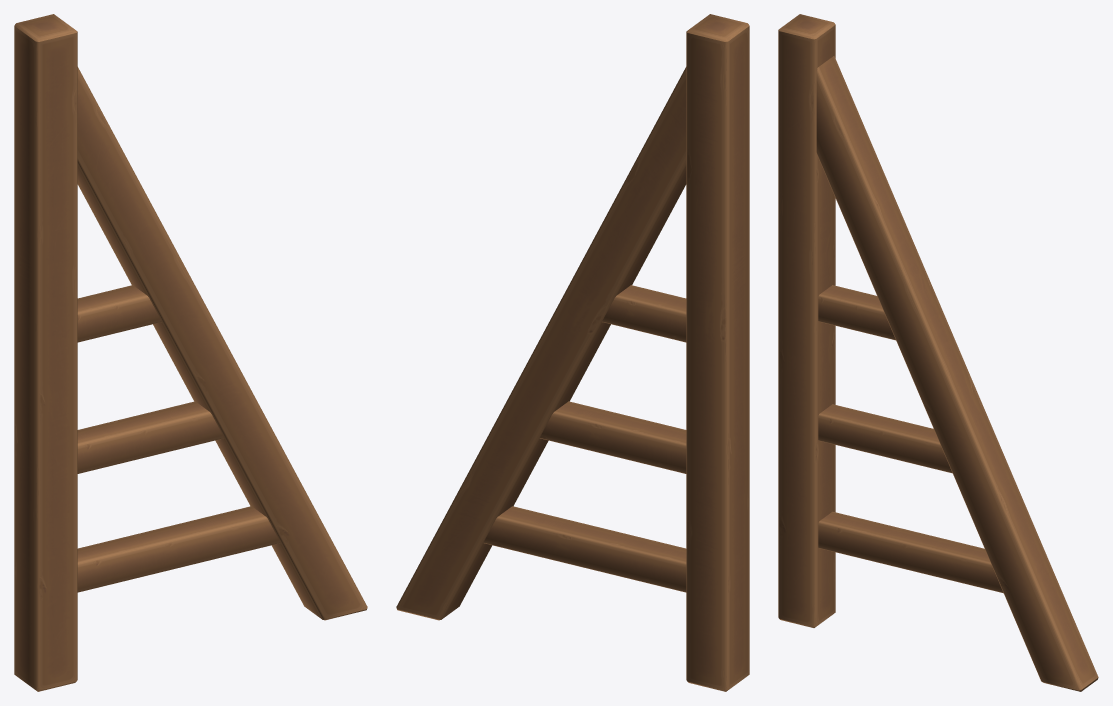
File: ARC0510097.fbx
3 renders of one model, left to right at view 1: azimuth 30°, elevation 25°; view 2: azimuth 150°, elevation 25°; view 3: azimuth 330°, elevation 25°, orthographic. The views are drawn at different scales.
Parts seen in each view (by area): view 1: smARC0510097; view 2: smARC0510097; view 3: smARC0510097.
Boxes of the visible parts, <box> form: smARC0510097: <box>14,14,367,691</box>; smARC0510097: <box>396,14,749,691</box>; smARC0510097: <box>778,14,1098,691</box>.
Size of the model in its own units: 160 by 300 by 20.
Materials: 1 (1 with a texture image).
